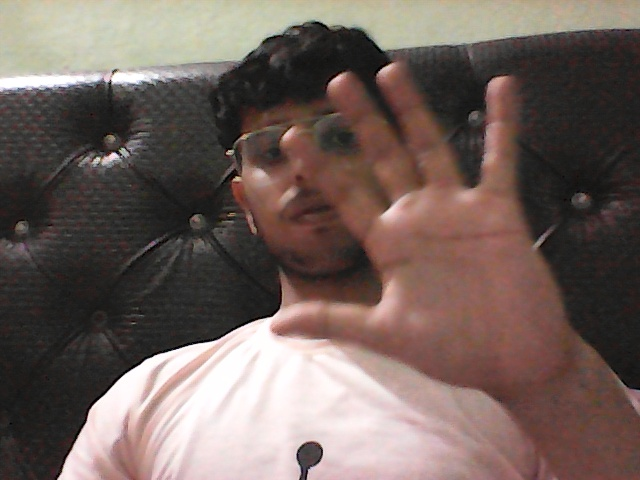hello: (251, 48, 620, 447)
